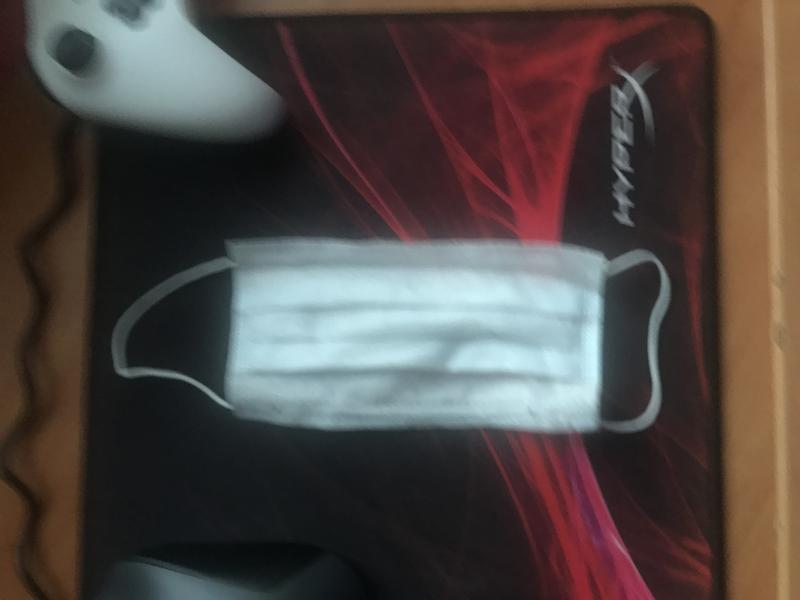medical_mask: (114, 243, 668, 432)
